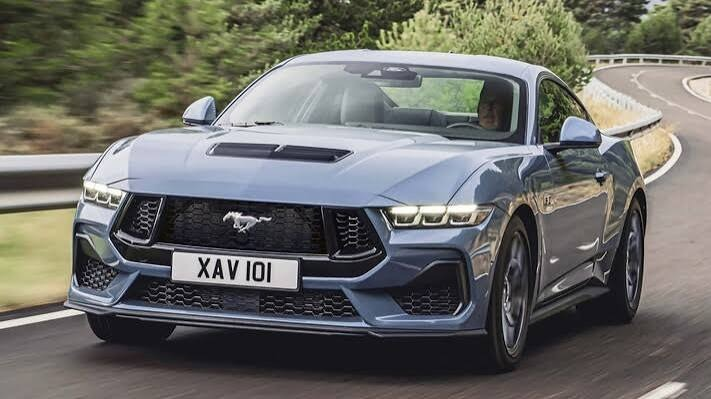car: (43, 39, 682, 370)
